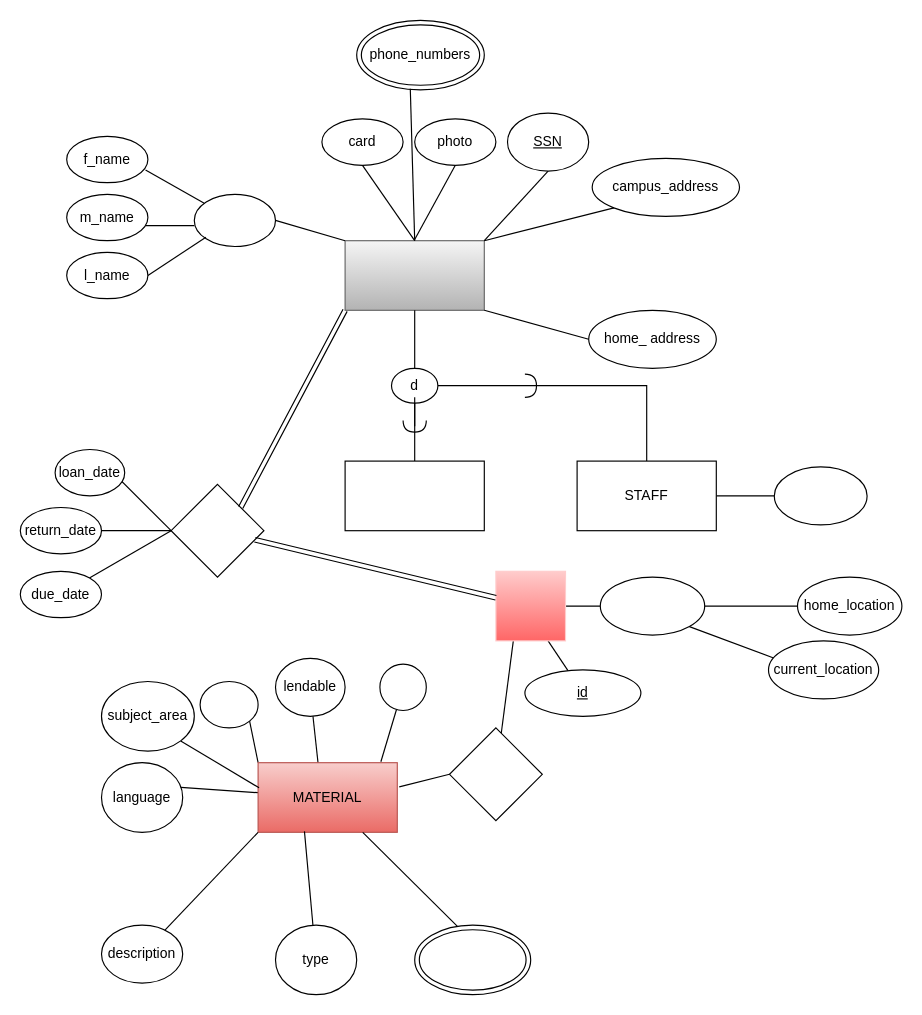
Image size: 922x1015. Some labels were removed from this diagram. Each missing label, with the box of its shape:
author: (414, 924, 531, 995)
COPY_OF: (448, 727, 542, 821)
ISBN: (379, 663, 426, 710)
job_title: (773, 466, 867, 525)
LOAN: (170, 483, 264, 577)
location: (599, 576, 705, 635)
MEMBER: (344, 240, 484, 310)
name: (193, 193, 276, 246)
PROFESSOR: (344, 460, 484, 531)
title: (199, 680, 258, 728)
VOLUME: (495, 570, 566, 641)
